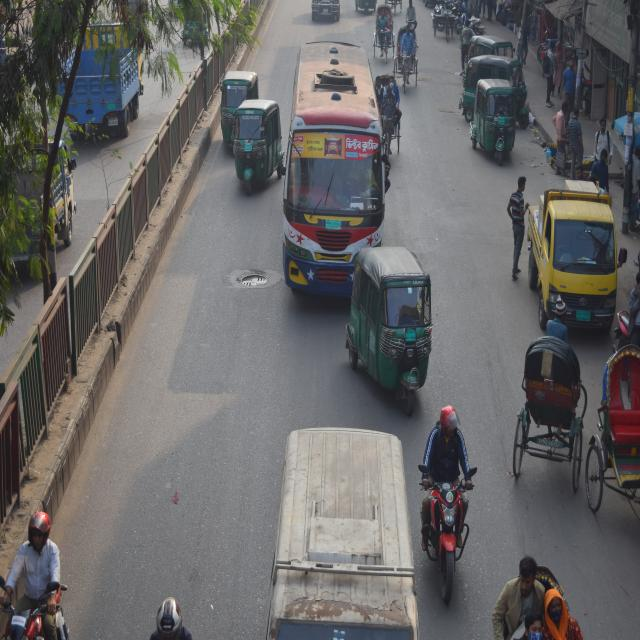bus: (283, 33, 394, 326)
microbus: (261, 417, 423, 640)
motorbike: (410, 409, 484, 608), (384, 9, 424, 95)
pickup-van: (508, 172, 634, 333)
